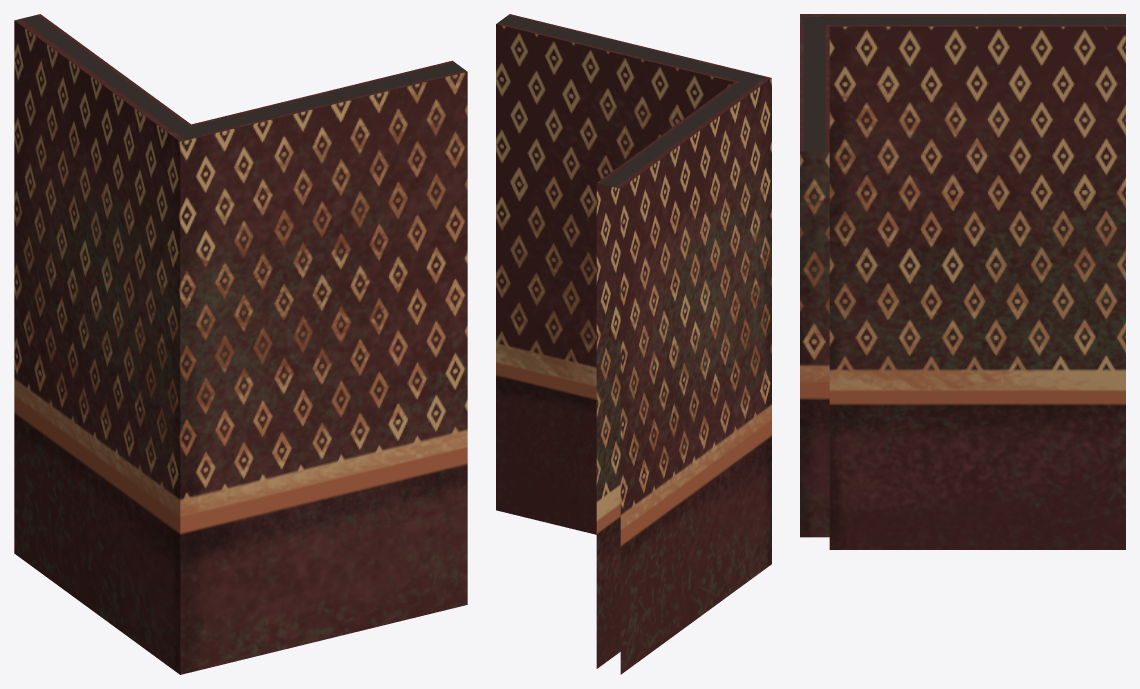
The model's file is Wall corner out.fbx.
3 views of the same model, side by side, from view 1: azimuth 30°, elevation 25°; view 2: azimuth 150°, elevation 25°; view 3: azimuth 270°, elevation 25° (orthographic). The views are drawn at different scales.
Parts seen in each view (by area): view 1: Wall_corner_inside1; view 2: Wall_corner_inside1; view 3: Wall_corner_inside1.
Boxes of the visible parts, bbox=[...] form: Wall_corner_inside1: bbox=[14, 14, 467, 674]; Wall_corner_inside1: bbox=[496, 14, 771, 674]; Wall_corner_inside1: bbox=[800, 14, 1125, 549].
Size of the model in its own units: 1.1 by 1.95 by 1.1.
1 material, 1 textured.
